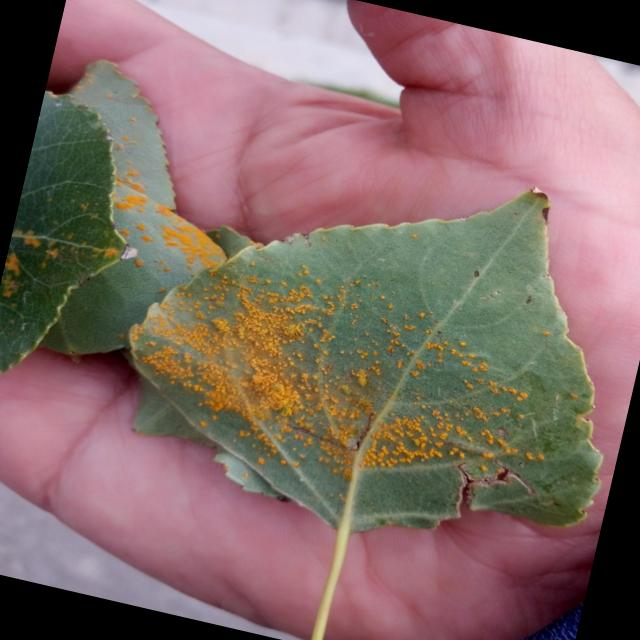leaf_rust: (131, 191, 600, 558), (142, 235, 152, 241)
